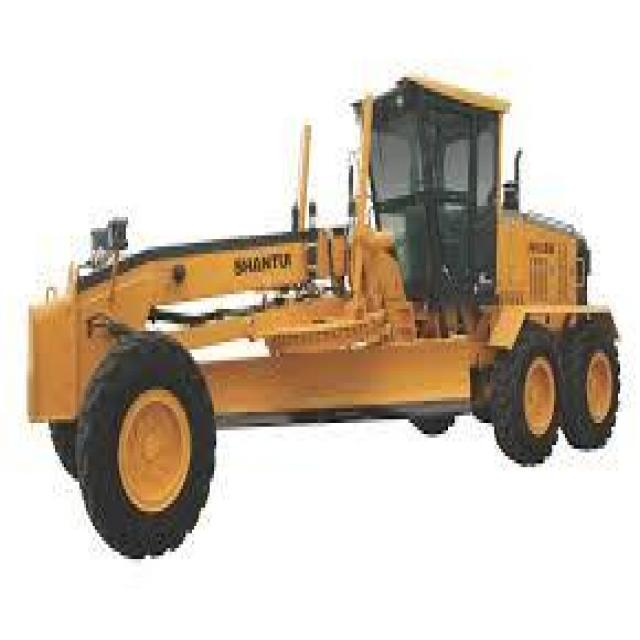Grader: (31, 48, 638, 563)
